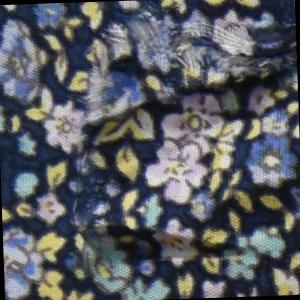Damage: (63, 3, 300, 283)
